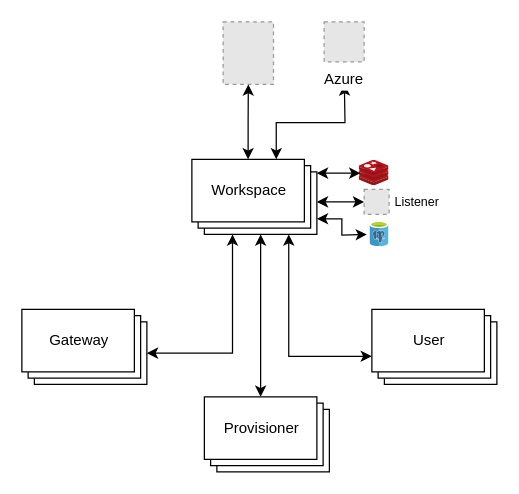
The diagram is 519 pixels wide and 494 high, and some of its shapes have lost their labels. Grey dashed boxes stand in for pictures. Here are the shapes that lost their labels. From the top down, the box of each, then its label:
(359, 160, 388, 185): Cache
(370, 221, 388, 246): WorkspaceDB
